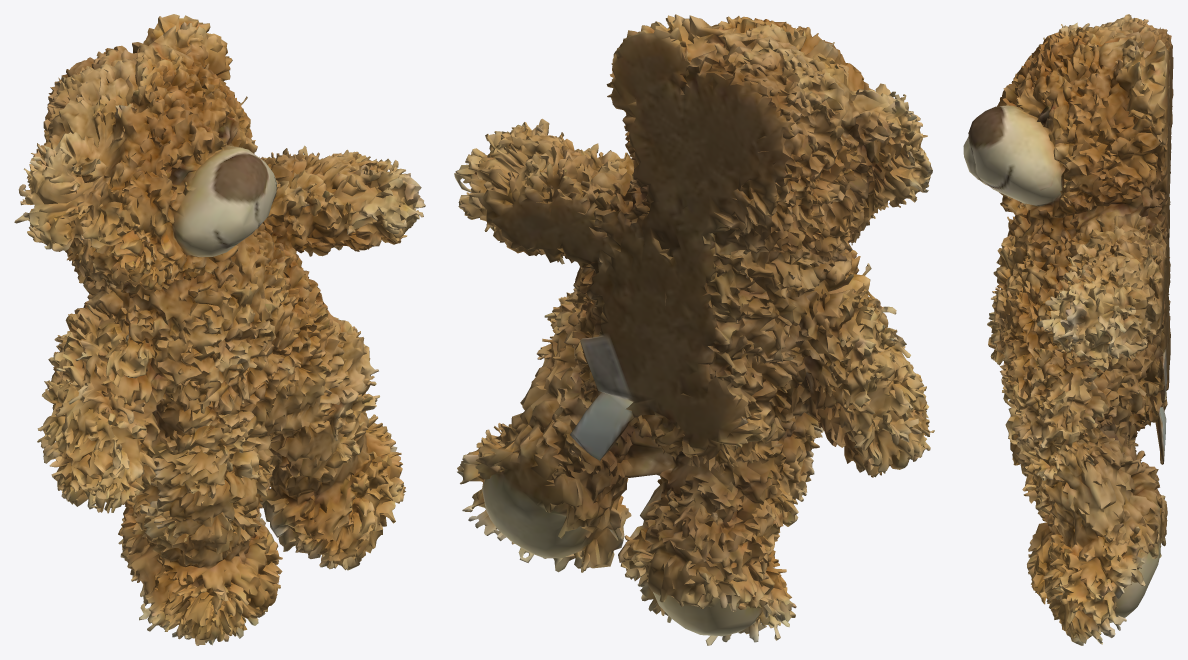
The model's file is Lovable_Huggable_Cuddly_Boutique_Teddy_Bear_Beige.glb.
3 views of the same model, side by side, from view 1: azimuth 30°, elevation 25°; view 2: azimuth 150°, elevation 25°; view 3: azimuth 270°, elevation 25° (orthographic). The views are drawn at different scales.
Visible parts, largest first — view 1: model.obj; view 2: model.obj; view 3: model.obj.
Boxes of the visible parts, x1,y1,x2,y2 form: model.obj: (14, 14, 425, 645); model.obj: (454, 14, 934, 645); model.obj: (963, 14, 1173, 645).
Size of the model in its own units: 0.725 by 1 by 0.3339.
1 material, 1 textured.
